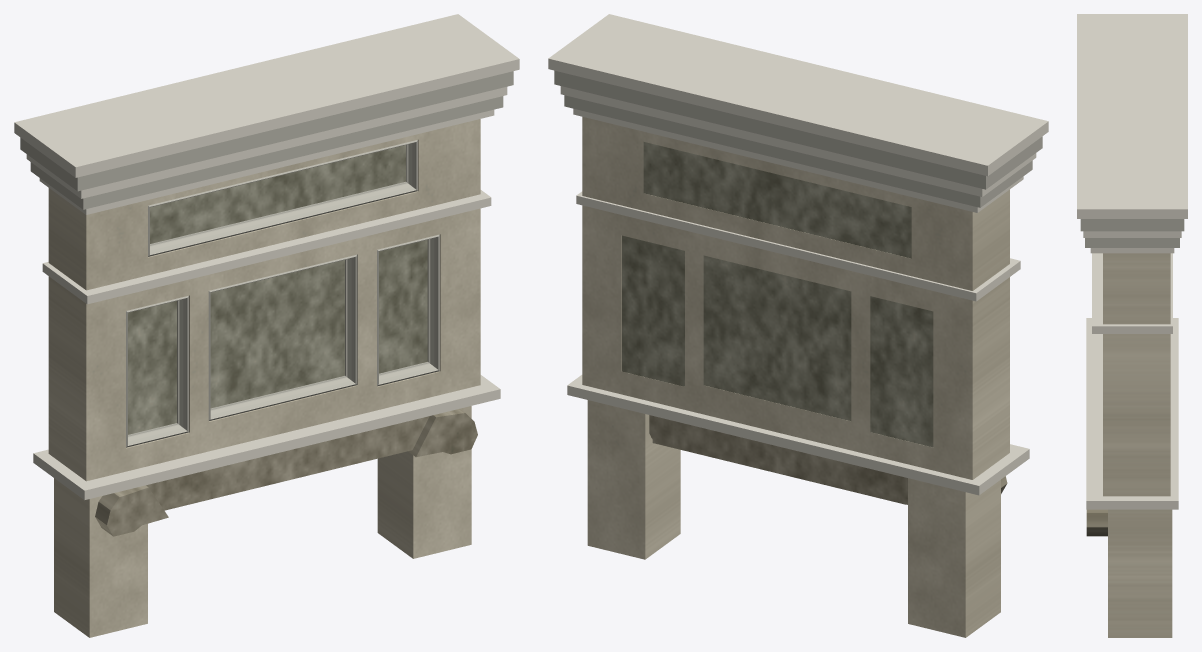
File: wujiazhai-no19-four-gate-panels-near.glb
3 views of the same model, side by side, from view 1: azimuth 30°, elevation 25°; view 2: azimuth 150°, elevation 25°; view 3: azimuth 270°, elevation 25° (orthographic). The views are drawn at different scales.
Parts seen in each view (by area): view 1: 大洪村吴家宅19号正门的四块灰饰与层叠门额; view 2: 大洪村吴家宅19号正门的四块灰饰与层叠门额; view 3: 大洪村吴家宅19号正门的四块灰饰与层叠门额.
Boxes of the visible parts, x1,y1,x2,y2 form: 大洪村吴家宅19号正门的四块灰饰与层叠门额: (14,14,519,637); 大洪村吴家宅19号正门的四块灰饰与层叠门额: (548,14,1048,637); 大洪村吴家宅19号正门的四块灰饰与层叠门额: (1077,14,1187,637).
Size of the model in its own units: 2.23 by 2.36 by 0.535.
Materials: 5 (3 with a texture image).
